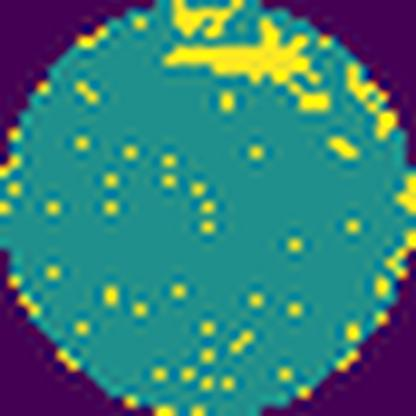Loc: (166, 18, 331, 113), (174, 0, 246, 36)
